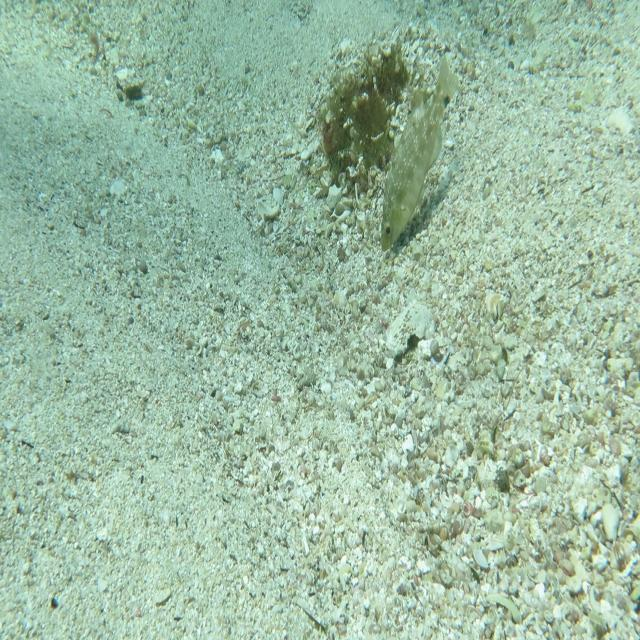NIP_OUT: (379, 57, 460, 253)
core_nest: (364, 56, 397, 95)
nest: (316, 32, 414, 200)
vegetation: (124, 80, 144, 106)
